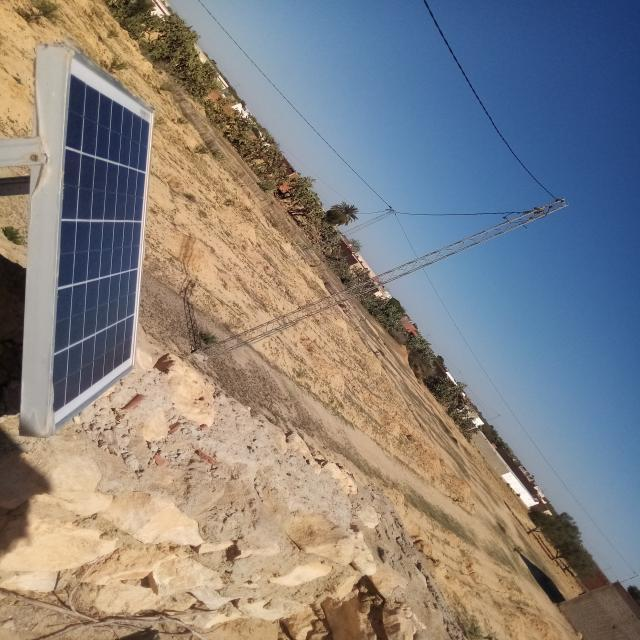Normal Solar Panel: (53, 49, 158, 431)
